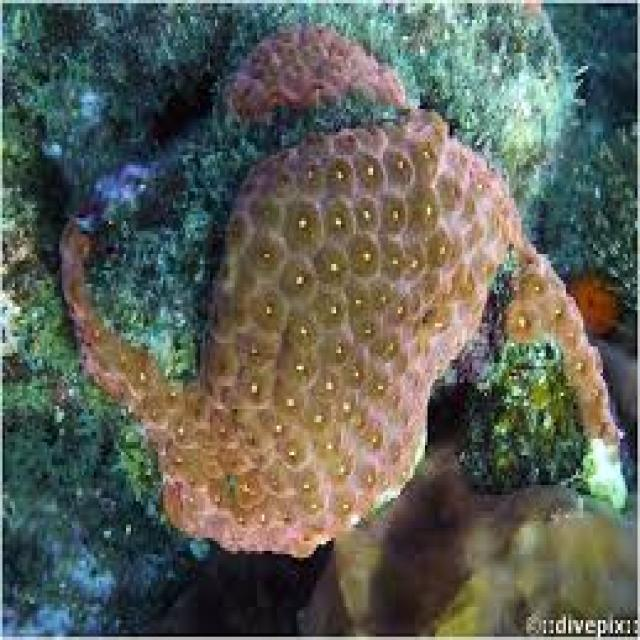Coral: (58, 109, 630, 561), (222, 21, 406, 118)
